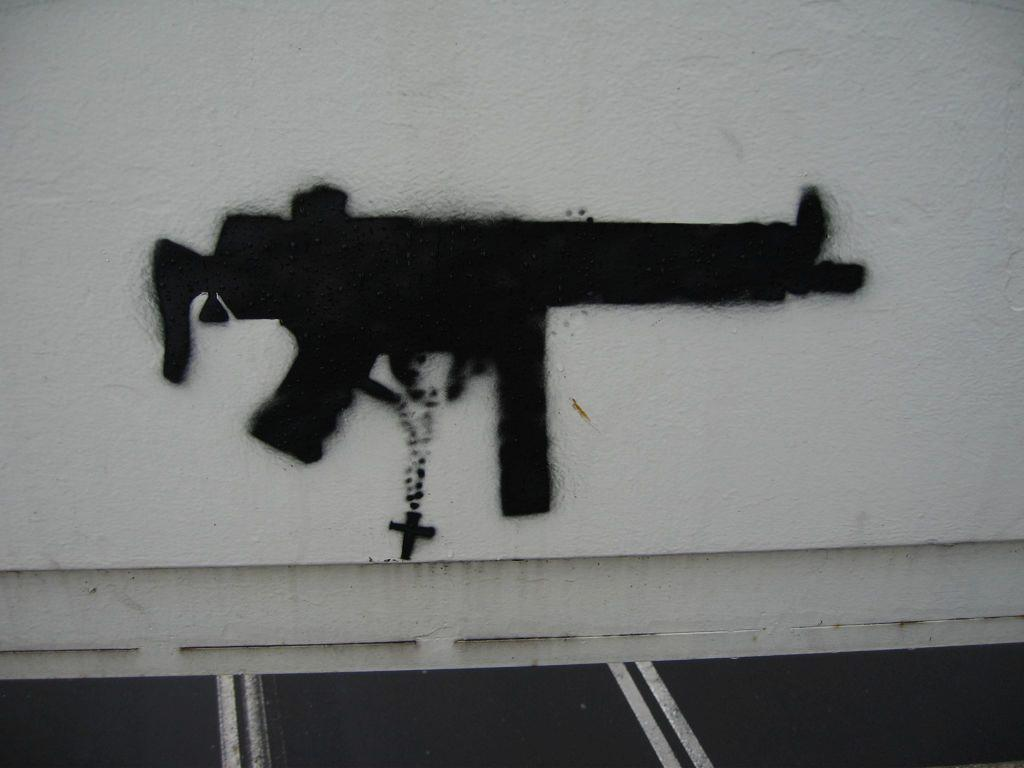gun: (148, 184, 868, 518)
